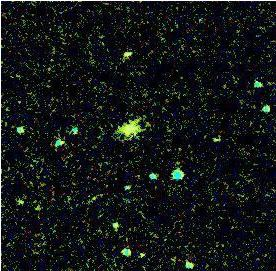star: (129, 232, 159, 262)
